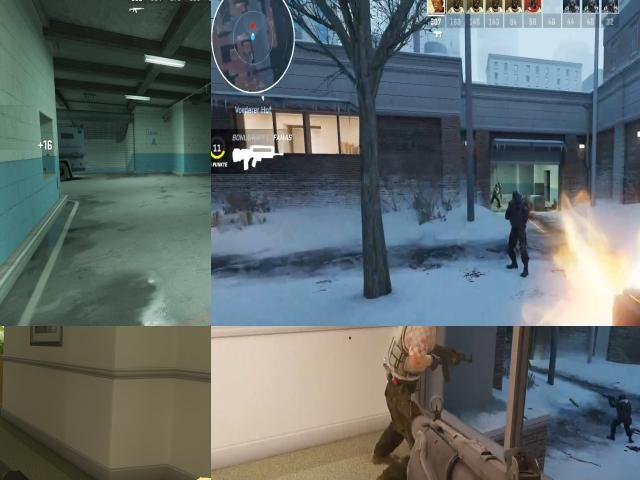CT: (504, 187, 532, 243), (608, 390, 634, 441)
CT-Head: (509, 188, 524, 206), (616, 394, 630, 407)
T: (379, 326, 451, 421)
